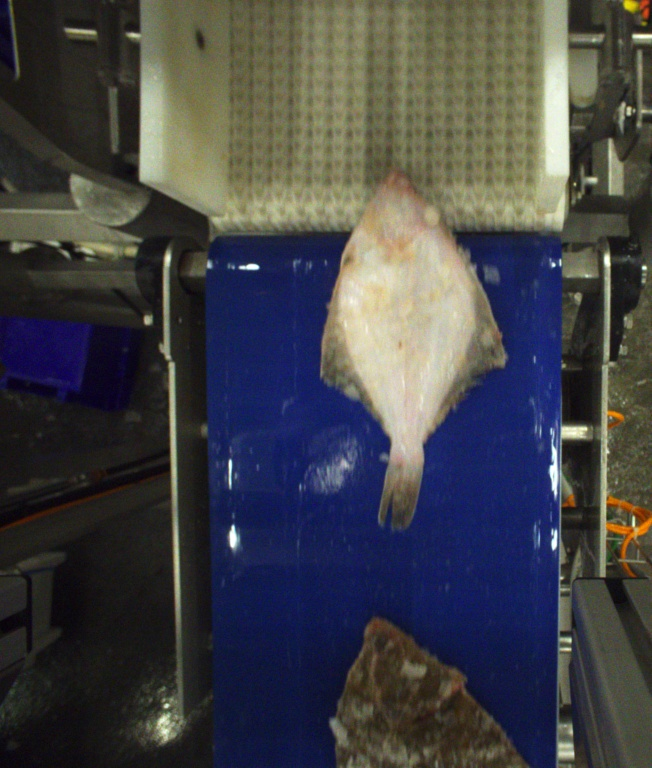PLE: (320, 175, 507, 536)
